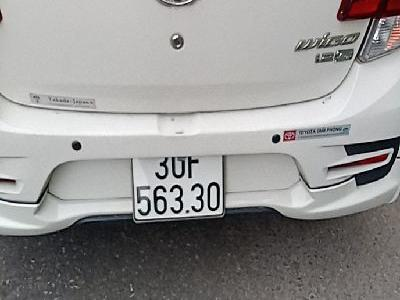car: (132, 155, 227, 221)
